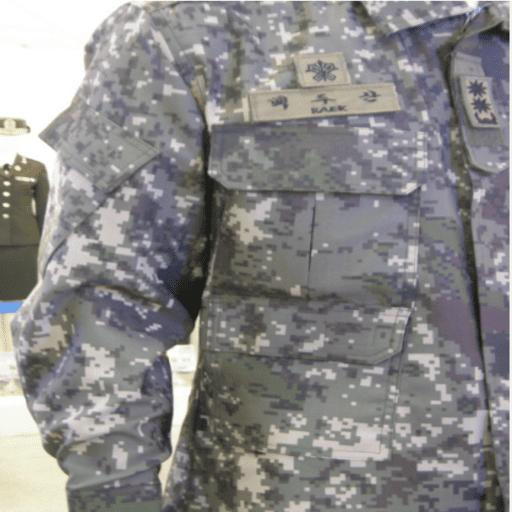korea army: (9, 0, 509, 510)
